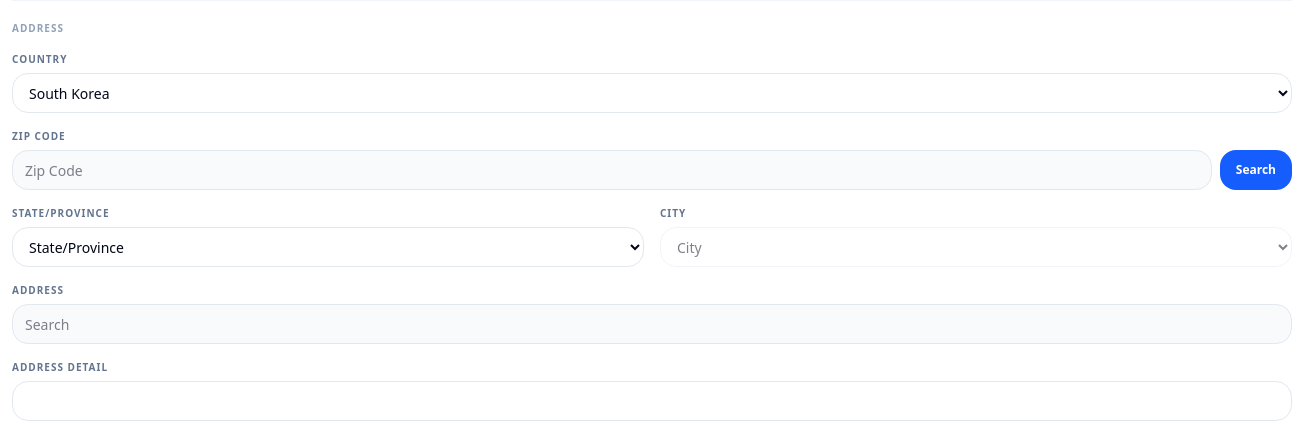
Test: TC-343-UI: AddressInput 쉼표 입력 시 공백 치환 › 상세주소 입력 시 쉼표가 공백으로 치환된다
This screenshot has width=1304, height=438.
Select "United States" in the dropdown below "Country". click: (652, 93)
box: [12, 73, 1292, 113]
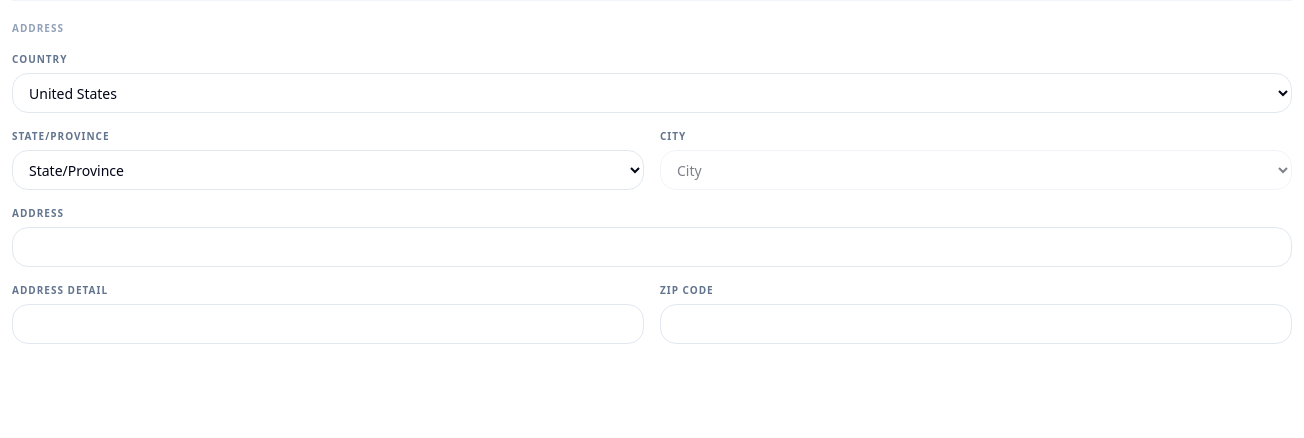
Result: the field named "address_detail" below "Address Detail" is shown
Type "Apt 1, 2F" into the field named "address_detail" below "Address Detail". click: (328, 324)
box: [12, 304, 644, 344]
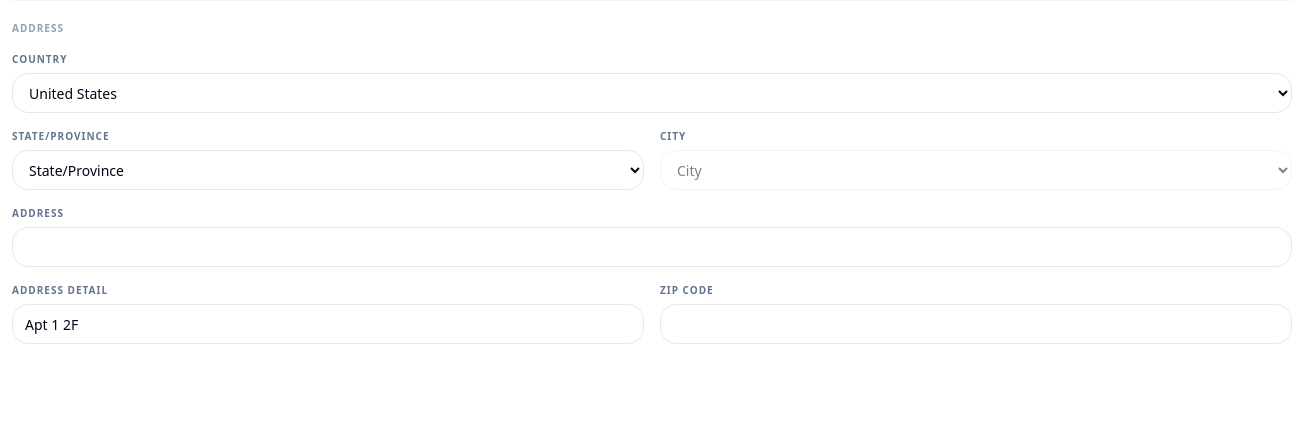
Result: the field named "address_detail" below "Address Detail" holds "Apt 1 2F" at [12, 304, 644, 344]
